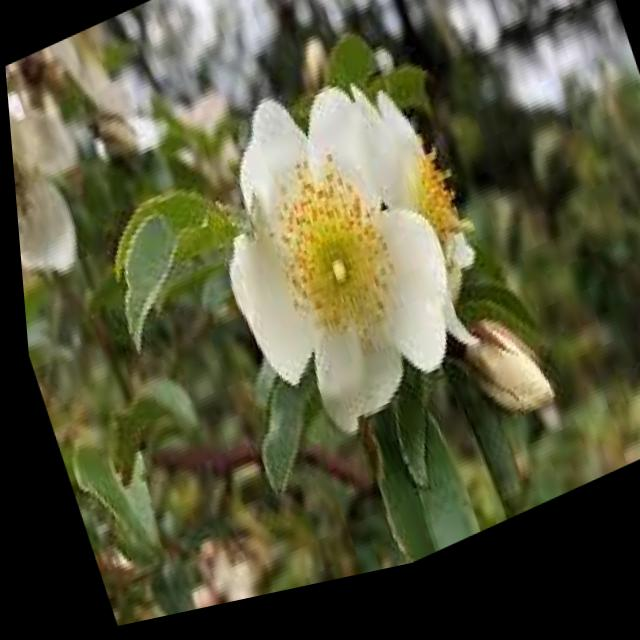Flower: (171, 41, 508, 482)
